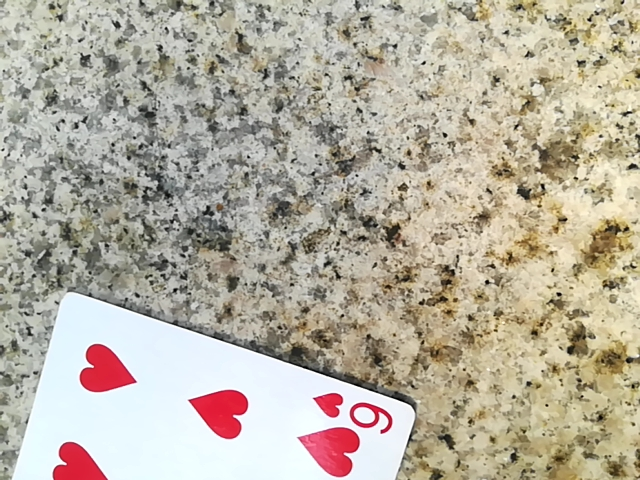hx 6: (1, 293, 415, 479)
